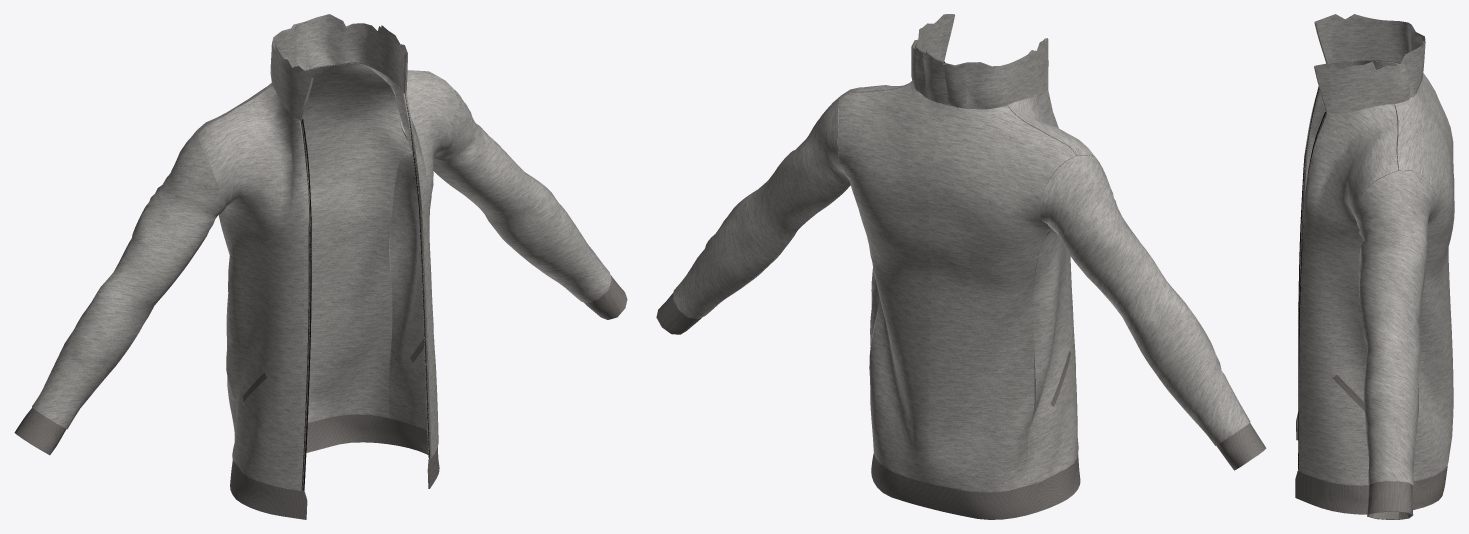
File: hoodie.glb
The picture shows the model from 3 angles, left to right: view 1: azimuth 30°, elevation 25°; view 2: azimuth 150°, elevation 25°; view 3: azimuth 270°, elevation 25°; orthographic projection.
Visible parts, largest first — view 1: hoodie; view 2: hoodie; view 3: hoodie.
Boxes of the visible parts, x1,y1,x2,y2 form: hoodie: (14,14,627,519); hoodie: (656,14,1266,519); hoodie: (1295,14,1454,519).
Size of the model in its own units: 0.9663 by 0.6812 by 0.2244.
3 materials, 3 textured.
